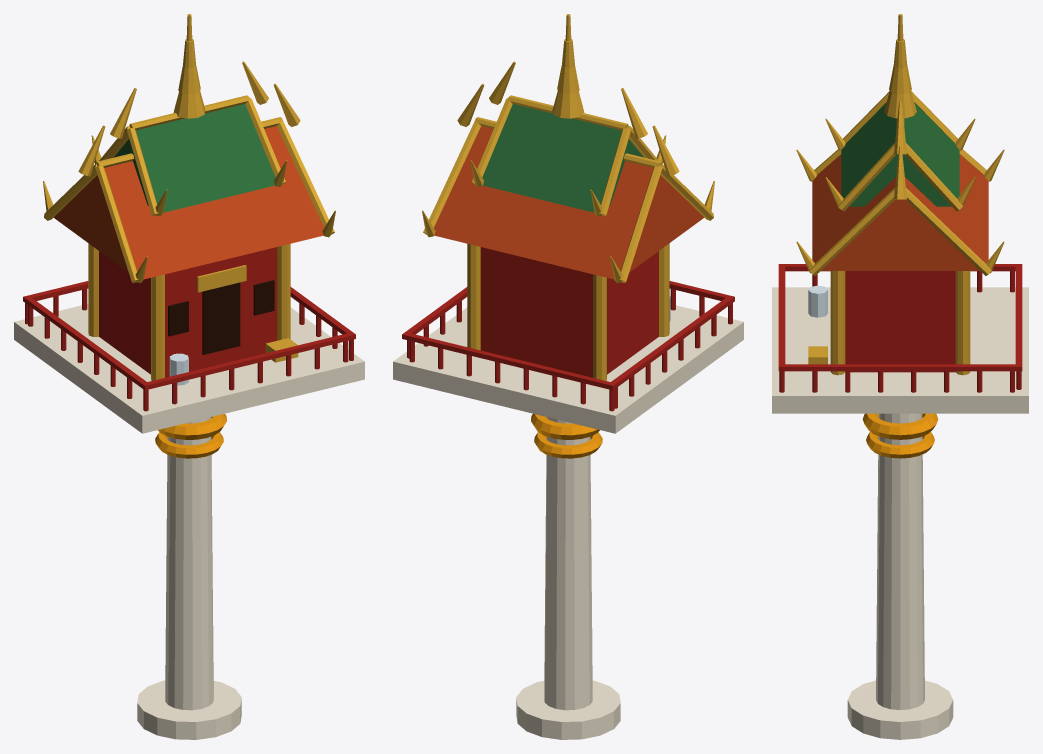
Rendered from spirit_house.glb.
The picture shows the model from 3 angles, left to right: view 1: azimuth 30°, elevation 25°; view 2: azimuth 150°, elevation 25°; view 3: azimuth 270°, elevation 25°; orthographic projection.
Parts seen in each view (by area): view 1: spirit_house; view 2: spirit_house; view 3: spirit_house.
Part boxes in pixels (x1,y1,x2,y2): spirit_house: (14,14,364,739); spirit_house: (393,14,743,739); spirit_house: (772,14,1028,739).
Size of the model in its own units: 0.78 by 2.36 by 0.78.
